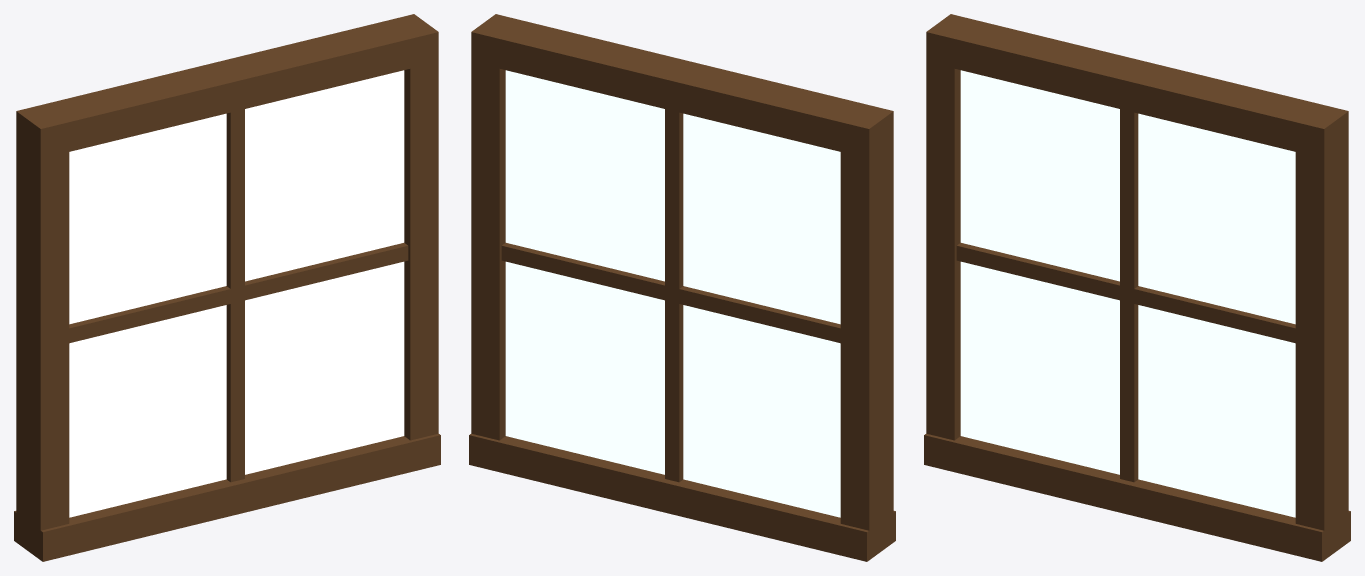
File: window.glb
3 renders of one model, left to right at view 1: azimuth 30°, elevation 25°; view 2: azimuth 150°, elevation 25°; view 3: azimuth 330°, elevation 25°, orthographic.
Visible parts, largest first — view 1: window; view 2: window; view 3: window.
Part boxes in pixels (x1,y1,x2,y2): window: [14, 14, 440, 561]; window: [469, 14, 895, 561]; window: [924, 14, 1350, 561].
Size of the model in its own units: 1.12 by 1.16 by 0.14.
